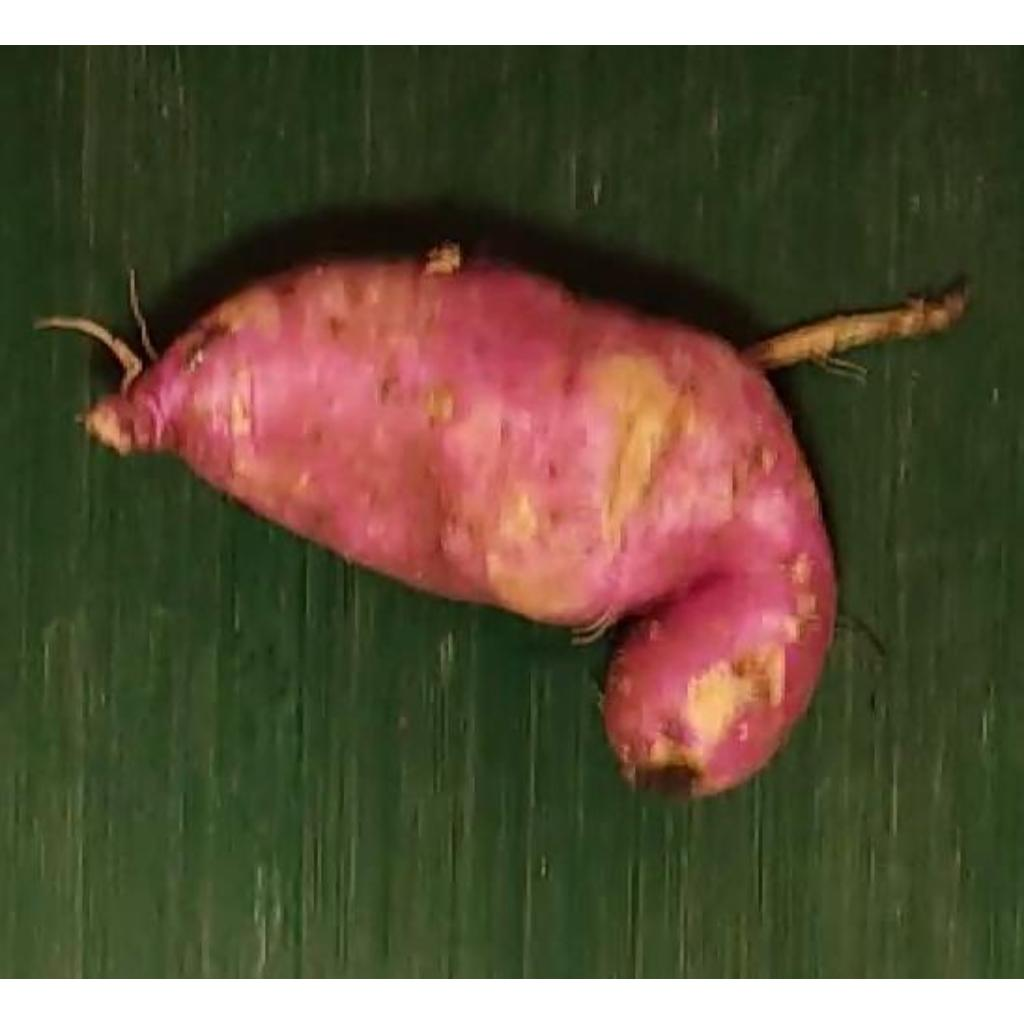Sweet Potato: (77, 245, 957, 806)
